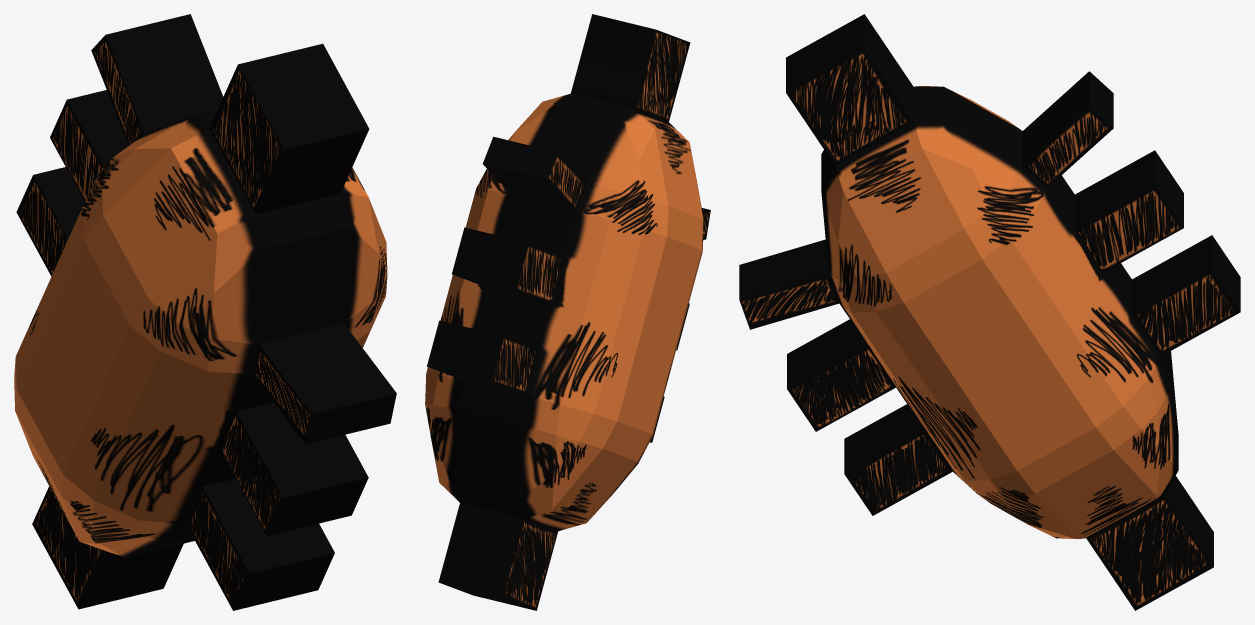
File: item4_listeria.fbx
The picture shows the model from 3 angles, left to right: view 1: azimuth 30°, elevation 25°; view 2: azimuth 150°, elevation 25°; view 3: azimuth 270°, elevation 25°; orthographic projection. The views are drawn at different scales.
Parts seen in each view (by area): view 1: Cube; view 2: Cube; view 3: Cube.
Part boxes in pixels (x1,y1,x2,y2): Cube: (14, 14, 396, 610); Cube: (425, 14, 710, 610); Cube: (739, 14, 1240, 610).
Size of the model in its own units: 385 by 957 by 774.
1 material, 1 textured.
